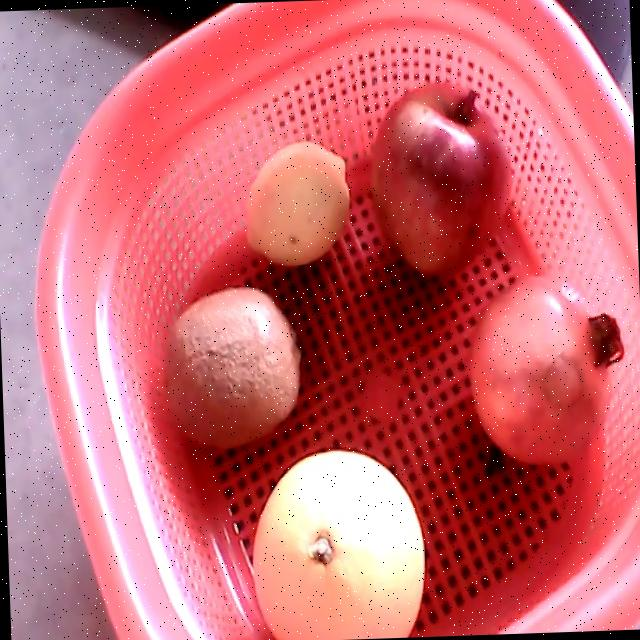apple: (371, 82, 513, 277)
kiwi: (165, 287, 302, 446)
lemon: (244, 142, 349, 266)
orange: (251, 449, 425, 640)
pomegranate: (469, 276, 624, 463)
